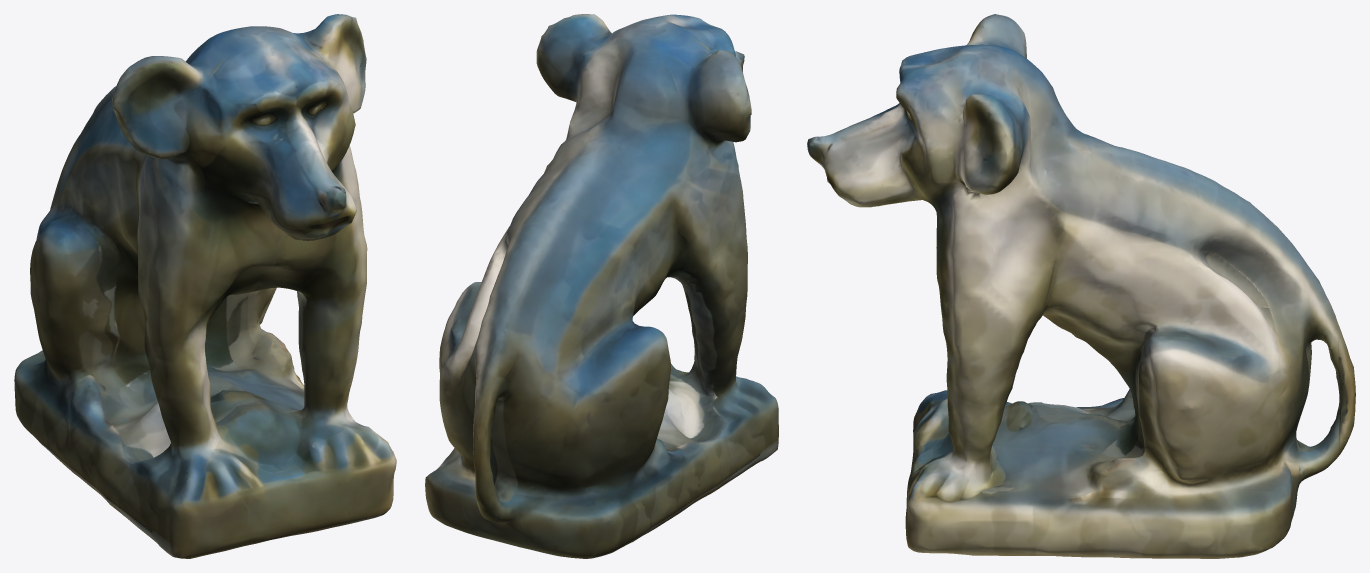
The model's file is Baboon.glb.
The picture shows the model from 3 angles, left to right: view 1: azimuth 30°, elevation 25°; view 2: azimuth 150°, elevation 25°; view 3: azimuth 270°, elevation 25°; orthographic projection. The views are drawn at different scales.
Bounding box in the file's own units: 0.6083 × 1.12 × 1.2.
Materials: 1 (1 with a texture image).
